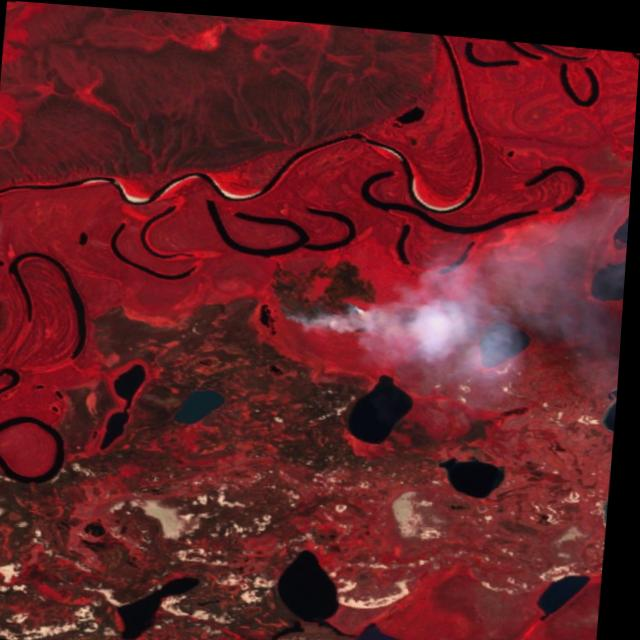fire: (284, 277, 377, 334)
